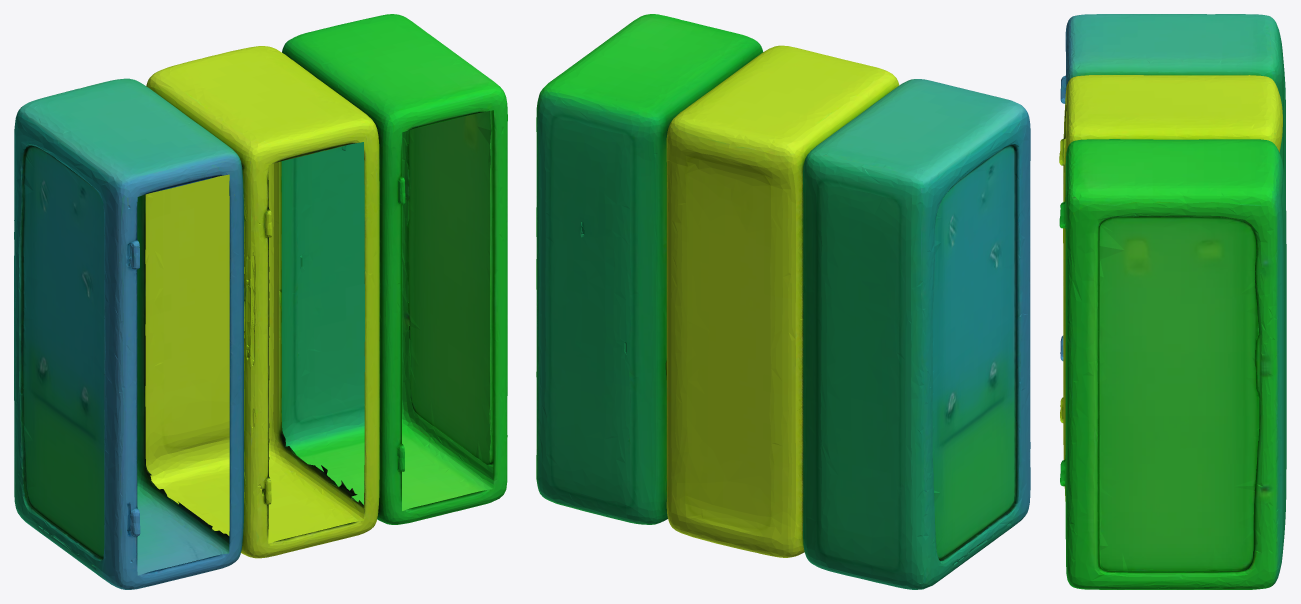
File: body.glb
3 views of the same model, side by side, from view 1: azimuth 30°, elevation 25°; view 2: azimuth 150°, elevation 25°; view 3: azimuth 270°, elevation 25° (orthographic). The views are drawn at different scales.
Parts seen in each view (by area): view 1: source_surface_0; view 2: source_surface_0; view 3: source_surface_0.
Boxes of the visible parts, x1,y1,x2,y2 form: source_surface_0: (14,14,507,589); source_surface_0: (536,14,1030,589); source_surface_0: (1059,14,1286,589).
Bounding box in the file's own units: 0.2765 × 0.28 × 0.1431.
Materials: 1 (1 with a texture image).
